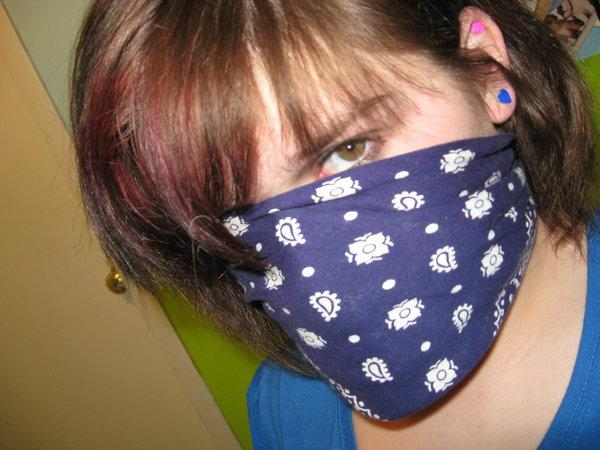OK: (182, 77, 498, 393)
